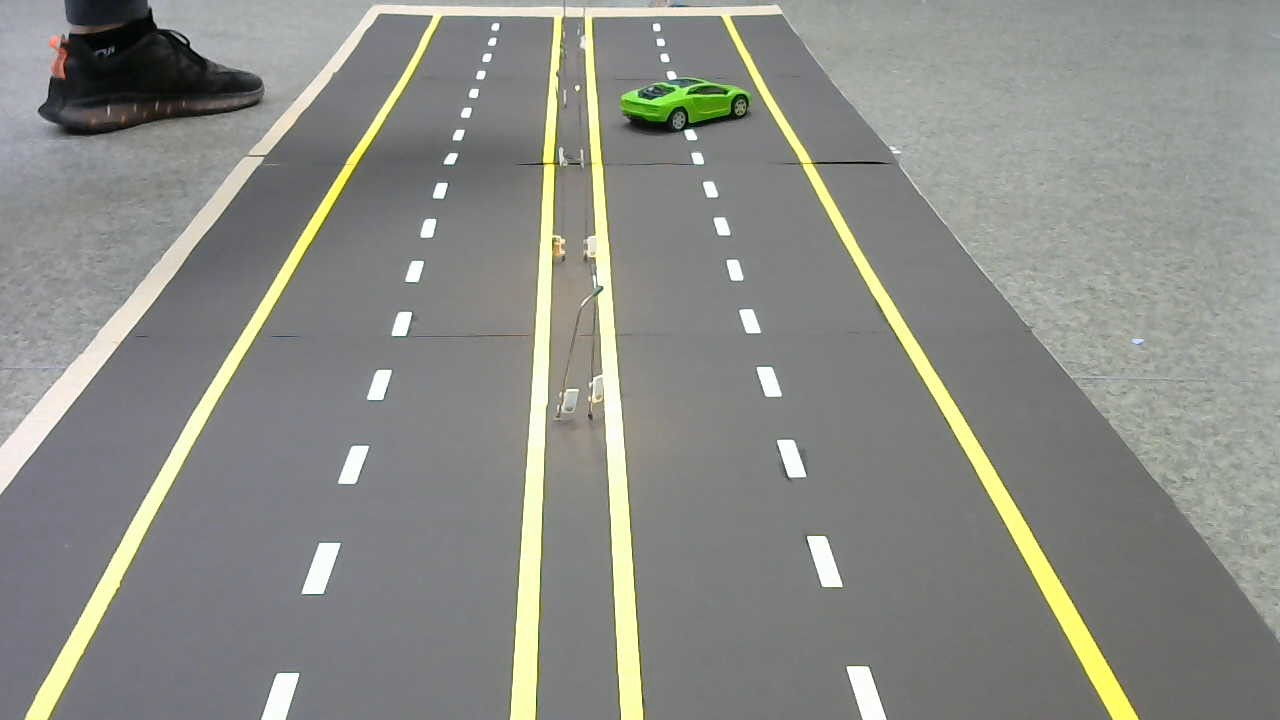overturn_car: (620, 73, 752, 141)
